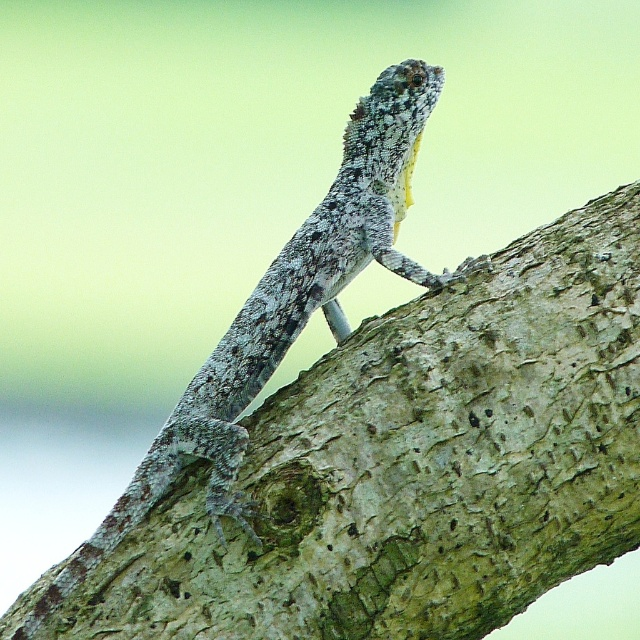Lizard: (31, 65, 479, 611)
